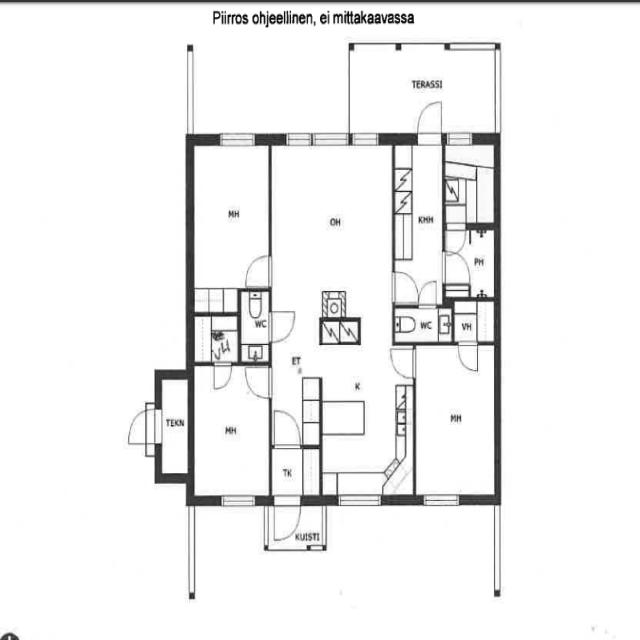door: (440, 235, 490, 294), (392, 306, 451, 342), (122, 405, 164, 449), (270, 493, 304, 544), (414, 97, 444, 147), (241, 250, 275, 289), (272, 406, 302, 450), (440, 248, 471, 287), (266, 307, 297, 345), (243, 363, 274, 400), (389, 343, 418, 382), (390, 268, 420, 305), (455, 339, 480, 375), (443, 223, 470, 256), (211, 360, 234, 392), (416, 277, 439, 309)
window: (180, 499, 202, 601), (490, 500, 507, 597), (215, 128, 260, 150), (418, 489, 464, 510), (336, 490, 386, 509), (217, 491, 259, 510), (310, 130, 351, 148), (348, 129, 383, 148), (282, 129, 316, 148), (443, 128, 476, 146)
zone: (269, 142, 395, 356), (413, 339, 498, 497), (191, 140, 271, 294), (192, 362, 270, 498), (392, 140, 442, 306), (443, 139, 497, 227), (197, 299, 270, 361), (442, 225, 498, 298), (160, 374, 190, 481), (270, 446, 322, 500), (239, 286, 272, 364), (192, 314, 240, 362), (390, 306, 452, 343), (452, 299, 498, 343)
